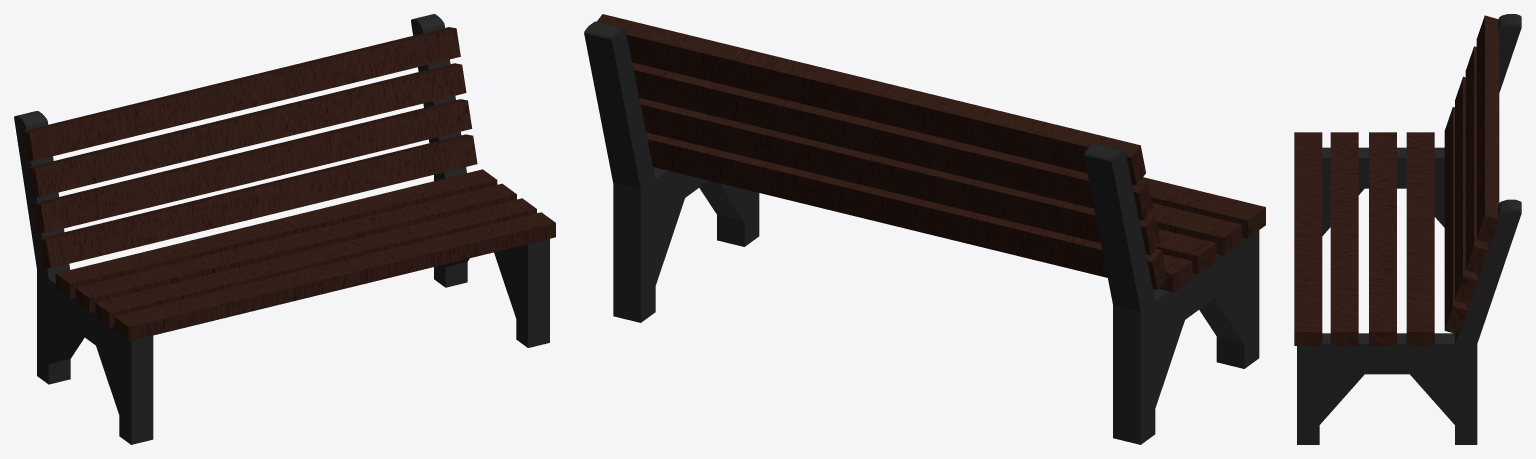
Rendered from bench.fbx.
3 views of the same model, side by side, from view 1: azimuth 30°, elevation 25°; view 2: azimuth 150°, elevation 25°; view 3: azimuth 270°, elevation 25° (orthographic). The views are drawn at different scales.
Parts seen in each view (by area): view 1: Cube; view 2: Cube; view 3: Cube.
Boxes of the visible parts, x1,y1,x2,y2 form: Cube: [14, 14, 555, 444]; Cube: [584, 14, 1265, 444]; Cube: [1294, 14, 1521, 444].
Bounding box in the file's own units: 419 × 230 × 202.
Materials: 2 (1 with a texture image).
